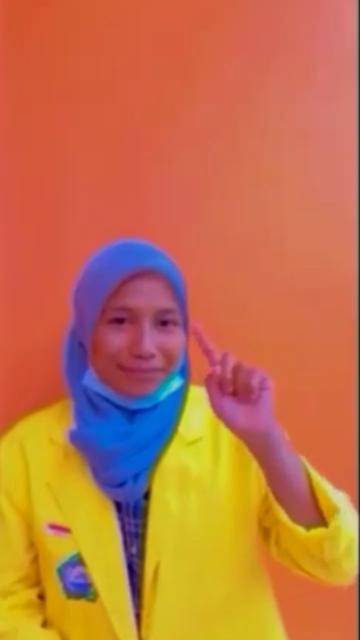Z: (185, 322, 286, 430)
